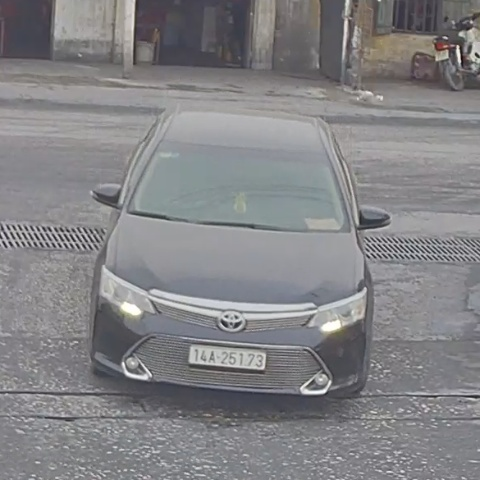vehicle plate: (187, 337, 269, 376)
